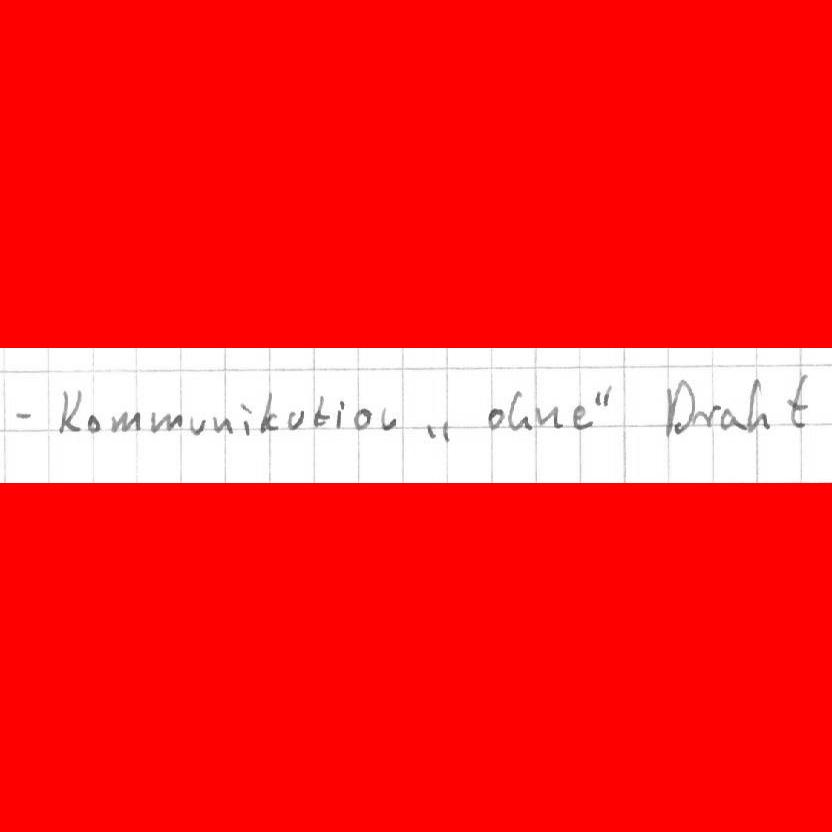Char: (662, 378, 695, 436), (744, 377, 775, 431), (786, 371, 811, 431), (56, 388, 84, 435), (506, 388, 532, 431), (258, 390, 280, 434), (149, 409, 184, 436), (107, 409, 143, 433), (534, 404, 564, 430), (719, 404, 746, 431), (570, 403, 595, 431), (423, 420, 452, 443), (312, 394, 331, 429), (698, 402, 722, 428), (482, 405, 507, 429), (592, 384, 615, 408), (210, 413, 235, 435), (352, 405, 373, 431), (239, 402, 254, 437), (380, 405, 398, 433), (285, 408, 306, 431), (188, 413, 208, 436), (333, 397, 345, 430), (85, 412, 102, 434), (12, 409, 33, 422)
